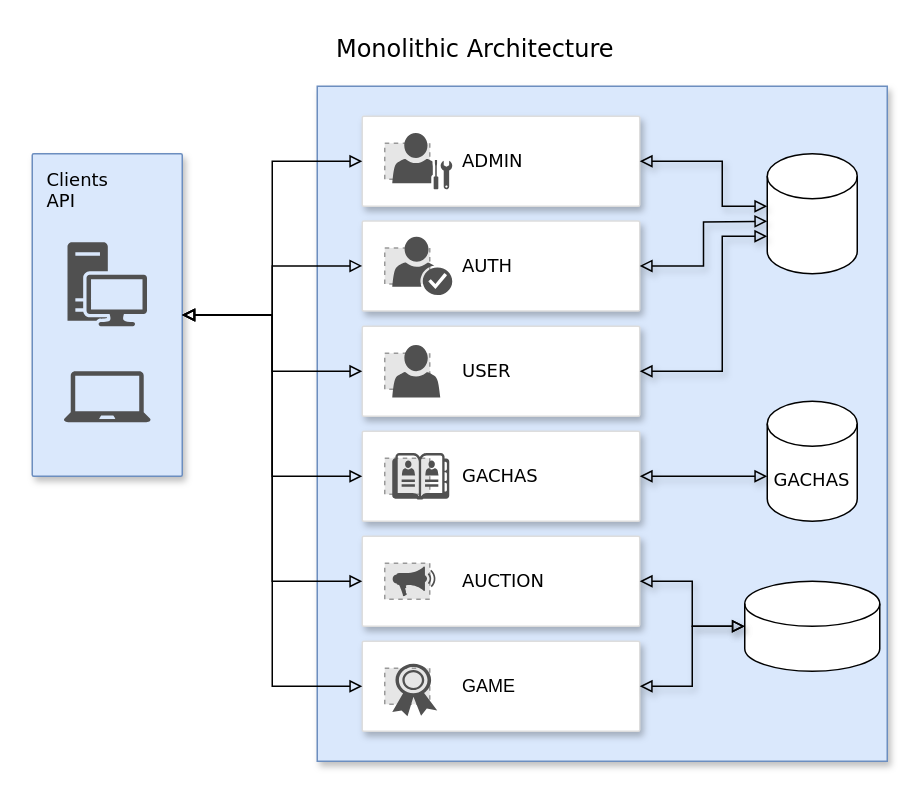
Some shapes in this 923 by 798 pixel diagram are drawn without their labels. Grey dashed boxes stand in for pictures. Here are the shapes that lost their labels. From the top down, the centre of each, then its label:
(811,213): USERS
(811,625): TRANSACTION
